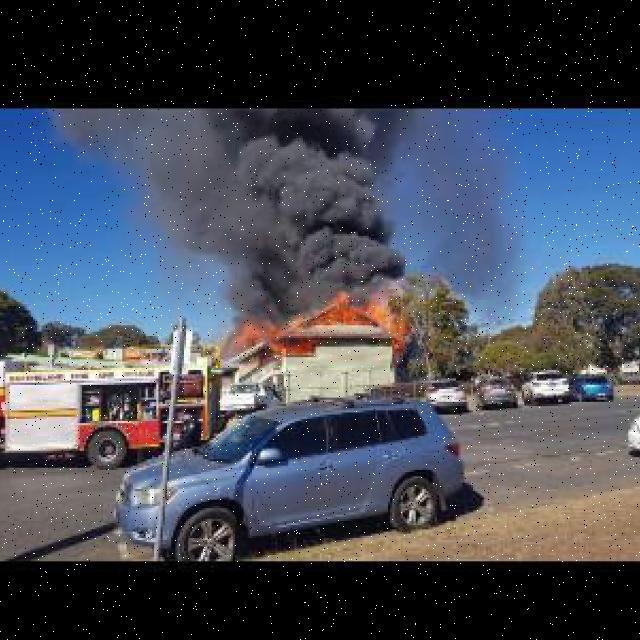fire: (233, 281, 405, 364)
smoke: (133, 113, 403, 276)
